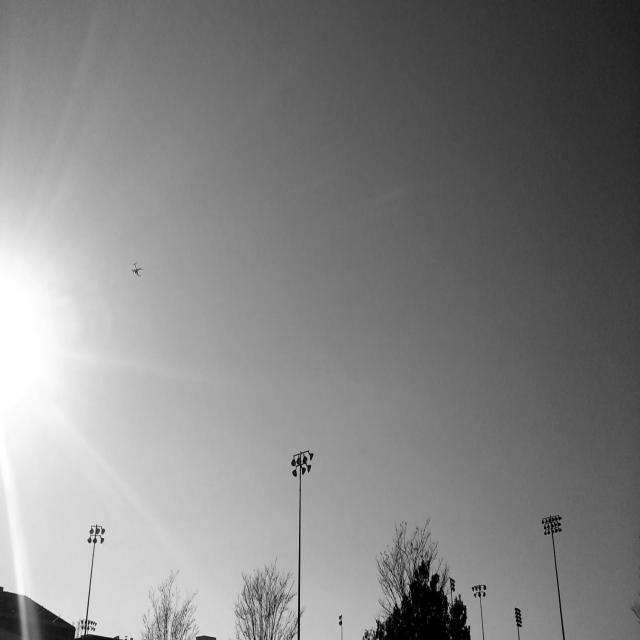drone: (128, 252, 146, 279)
